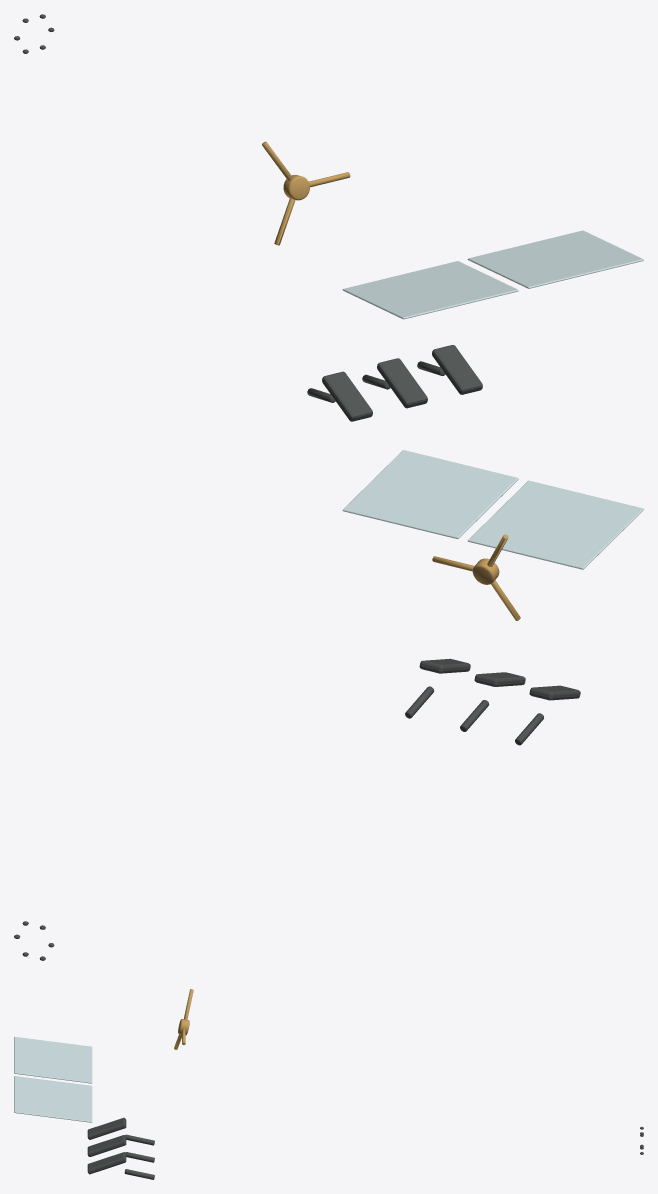
File: RussoBalt_C24_55_LOD1.fbx
The picture shows the model from 3 angles, top to bottom: view 1: azimuth 30°, elevation 25°; view 2: azimuth 150°, elevation 25°; view 3: azimuth 270°, elevation 25°; orthographic projection. The views are drawn at different scales.
Visible parts, largest first — view 1: RB_Windshield_Pivot_OPT_Merged_RB_Acetylene_Glass_OPT_DATA_L, RB_Brake_Pedal_Pivot_OPT_Merged_RB_Steel_Blackened_OPT_DATA_, RB_Throttle_Pedal_Pivot_OPT_Merged_RB_Steel_Blackened_OPT_DA, RB_Clutch_Pedal_Pivot_OPT_Merged_RB_Steel_Blackened_OPT_DATA, RB_SteeringWheel_Pivot_OPT_Merged_RB_Brass_Aged_OPT_DATA_LOD; view 2: RB_Windshield_Pivot_OPT_Merged_RB_Acetylene_Glass_OPT_DATA_L, RB_SteeringWheel_Pivot_OPT_Merged_RB_Brass_Aged_OPT_DATA_LOD, RB_Clutch_Pedal_Pivot_OPT_Merged_RB_Steel_Blackened_OPT_DATA, RB_Brake_Pedal_Pivot_OPT_Merged_RB_Steel_Blackened_OPT_DATA_, RB_Throttle_Pedal_Pivot_OPT_Merged_RB_Steel_Blackened_OPT_DA; view 3: RB_Windshield_Pivot_OPT_Merged_RB_Acetylene_Glass_OPT_DATA_L, RB_Throttle_Pedal_Pivot_OPT_Merged_RB_Steel_Blackened_OPT_DA, RB_Clutch_Pedal_Pivot_OPT_Merged_RB_Steel_Blackened_OPT_DATA, RB_Brake_Pedal_Pivot_OPT_Merged_RB_Steel_Blackened_OPT_DATA_, RB_SteeringWheel_Pivot_OPT_Merged_RB_Brass_Aged_OPT_DATA_LOD.
Boxes of the visible parts, x1=… form: RB_Windshield_Pivot_OPT_Merged_RB_Acetylene_Glass_OPT_DATA_L: x1=342, y1=230, x2=643, y2=319; RB_Brake_Pedal_Pivot_OPT_Merged_RB_Steel_Blackened_OPT_DATA_: x1=362, y1=358, x2=427, y2=408; RB_Throttle_Pedal_Pivot_OPT_Merged_RB_Steel_Blackened_OPT_DA: x1=417, y1=345, x2=482, y2=394; RB_Clutch_Pedal_Pivot_OPT_Merged_RB_Steel_Blackened_OPT_DATA: x1=307, y1=371, x2=372, y2=421; RB_SteeringWheel_Pivot_OPT_Merged_RB_Brass_Aged_OPT_DATA_LOD: x1=262, y1=141, x2=350, y2=245; RB_Windshield_Pivot_OPT_Merged_RB_Acetylene_Glass_OPT_DATA_L: x1=342, y1=450, x2=643, y2=569; RB_SteeringWheel_Pivot_OPT_Merged_RB_Brass_Aged_OPT_DATA_LOD: x1=432, y1=534, x2=520, y2=620; RB_Clutch_Pedal_Pivot_OPT_Merged_RB_Steel_Blackened_OPT_DATA: x1=515, y1=685, x2=580, y2=745; RB_Brake_Pedal_Pivot_OPT_Merged_RB_Steel_Blackened_OPT_DATA_: x1=460, y1=672, x2=525, y2=731; RB_Throttle_Pedal_Pivot_OPT_Merged_RB_Steel_Blackened_OPT_DA: x1=405, y1=658, x2=470, y2=718; RB_Windshield_Pivot_OPT_Merged_RB_Acetylene_Glass_OPT_DATA_L: x1=14, y1=1036, x2=92, y2=1122; RB_Throttle_Pedal_Pivot_OPT_Merged_RB_Steel_Blackened_OPT_DA: x1=87, y1=1152, x2=154, y2=1179; RB_Clutch_Pedal_Pivot_OPT_Merged_RB_Steel_Blackened_OPT_DATA: x1=87, y1=1117, x2=154, y2=1145; RB_Brake_Pedal_Pivot_OPT_Merged_RB_Steel_Blackened_OPT_DATA_: x1=87, y1=1135, x2=154, y2=1162; RB_SteeringWheel_Pivot_OPT_Merged_RB_Brass_Aged_OPT_DATA_LOD: x1=174, y1=989, x2=193, y2=1049.
Size of what is drawn, in the model's own units: 79.74 by 73.85 by 279.
